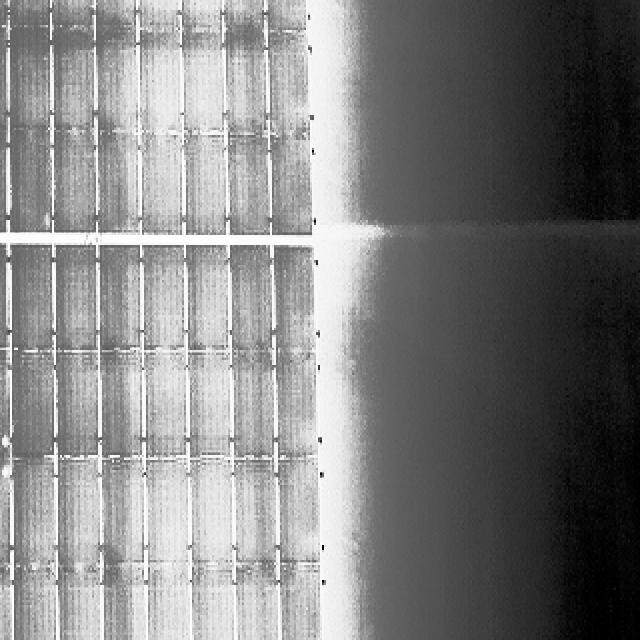Hotspots: (0, 428, 10, 452), (0, 462, 12, 482)
PV-modules: (147, 455, 196, 563), (9, 458, 56, 570), (10, 243, 57, 353), (56, 243, 102, 353), (58, 463, 103, 575), (140, 243, 186, 352), (185, 244, 232, 350), (188, 353, 234, 461), (95, 354, 141, 462), (94, 242, 139, 352), (227, 242, 272, 352), (97, 463, 142, 573), (92, 129, 137, 239), (236, 458, 282, 565), (220, 26, 266, 133), (50, 133, 96, 240), (9, 131, 54, 240), (271, 244, 315, 355), (12, 350, 58, 456), (141, 353, 186, 461), (222, 134, 268, 239), (55, 354, 100, 461), (234, 353, 278, 461), (268, 30, 312, 138), (274, 353, 318, 461), (190, 463, 234, 570), (137, 137, 182, 241), (6, 26, 51, 130), (138, 29, 182, 135), (51, 25, 95, 131), (276, 460, 319, 568), (95, 30, 140, 133), (270, 139, 314, 243), (182, 138, 226, 241), (183, 30, 225, 136), (56, 565, 104, 640), (188, 562, 234, 640), (102, 565, 148, 640), (236, 565, 282, 640), (14, 565, 58, 640), (278, 565, 322, 640), (144, 565, 188, 640), (225, 0, 306, 33), (135, 0, 179, 33), (265, 0, 308, 33), (92, 0, 134, 33), (49, 0, 95, 29), (180, 0, 223, 31), (0, 458, 12, 568), (220, 0, 264, 30), (0, 355, 12, 460), (0, 0, 44, 28), (6, 0, 48, 28), (0, 132, 8, 238), (0, 25, 8, 130), (0, 240, 6, 352), (0, 562, 8, 640), (0, 0, 10, 28)
